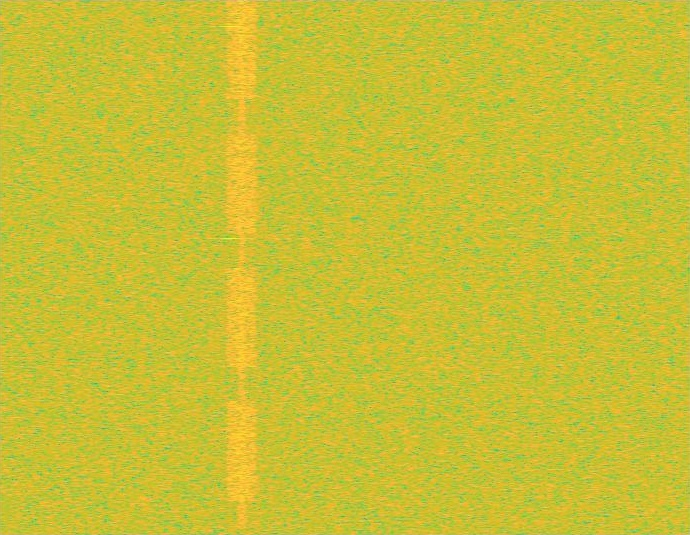5G: (225, 0, 259, 534)
DSSS: (238, 0, 246, 534)
Radar: (224, 0, 238, 534)
